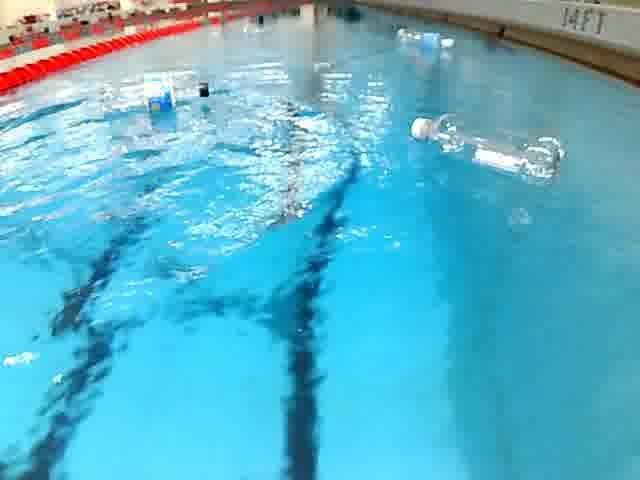Bottle: (404, 108, 572, 190), (95, 68, 216, 122), (390, 26, 460, 54)
